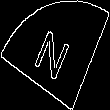N_SW: (32, 22, 78, 88)
